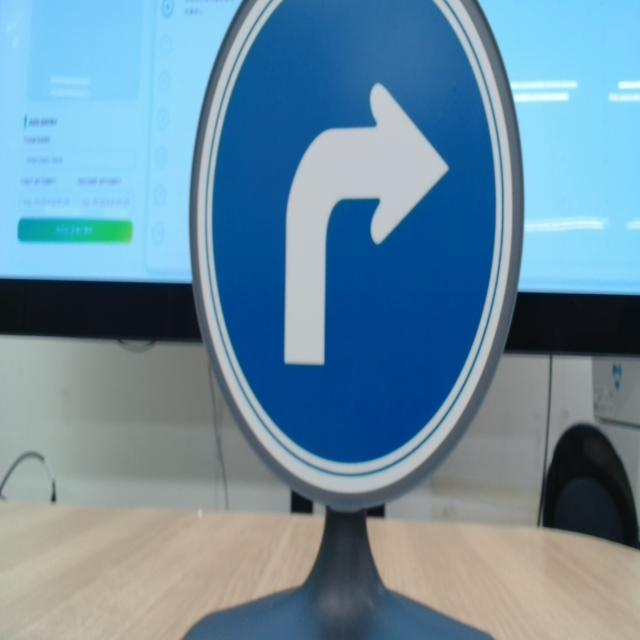right_dierection: (184, 0, 529, 511)
